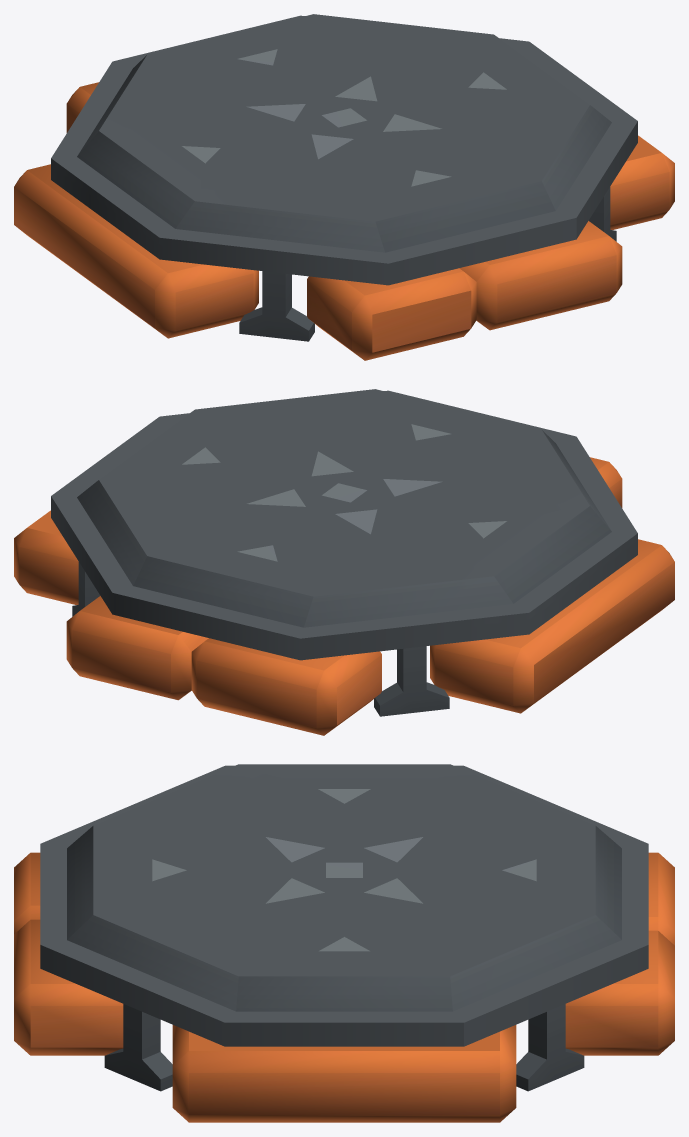
The model's file is landingpad_large.glb.
The picture shows the model from 3 angles, top to bottom: view 1: azimuth 30°, elevation 25°; view 2: azimuth 150°, elevation 25°; view 3: azimuth 270°, elevation 25°; orthographic projection. The views are drawn at different scales.
Parts seen in each view (by area): view 1: landingpad_large; view 2: landingpad_large; view 3: landingpad_large.
Boxes of the visible parts, x1,y1,x2,y2 form: landingpad_large: (14,14,674,360); landingpad_large: (14,389,674,735); landingpad_large: (14,764,674,1122).
Size of the model in its own units: 2.5 by 0.5 by 2.5.
1 material, 1 textured.
